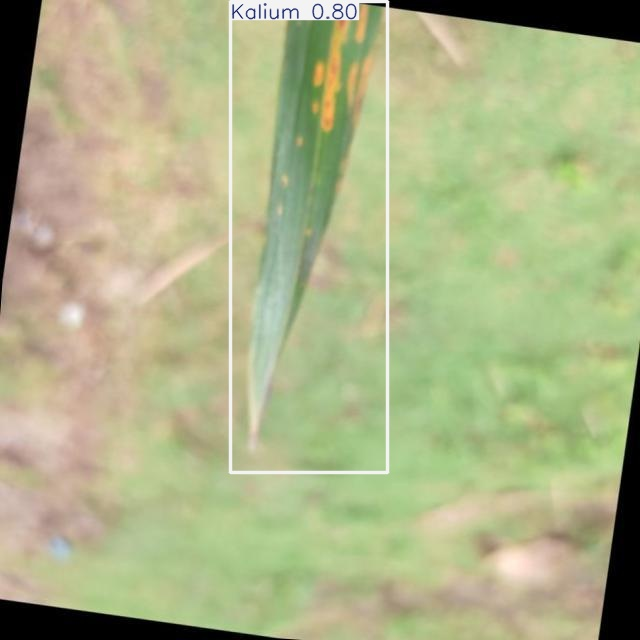Kalium: (231, 2, 387, 473)
